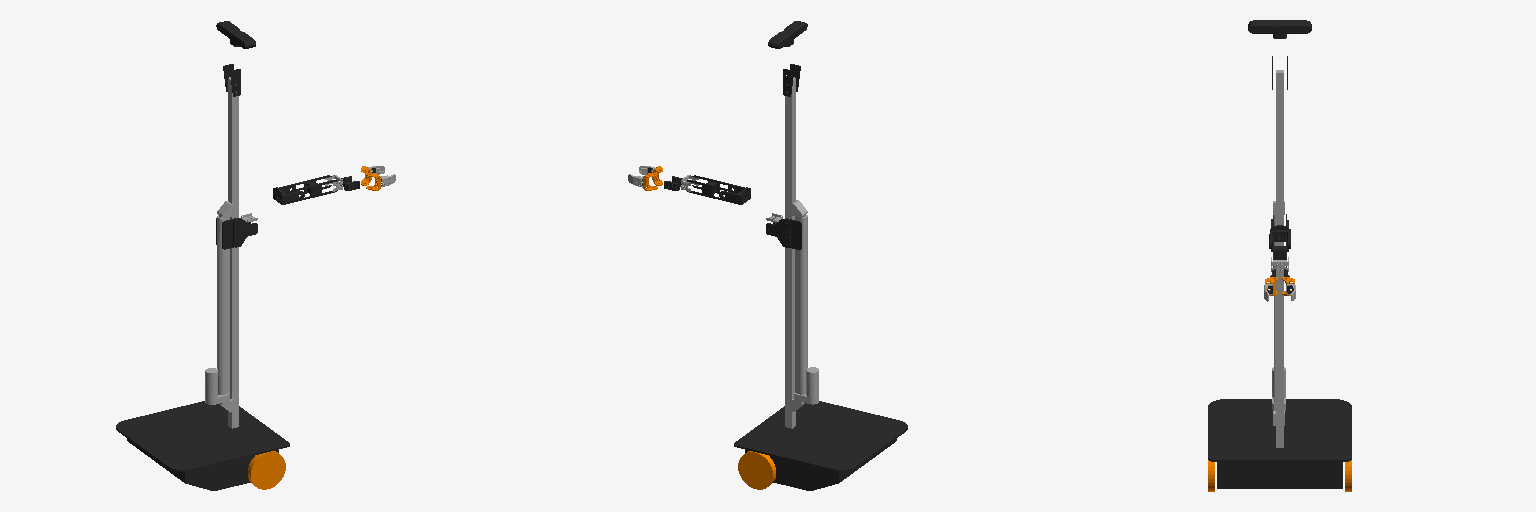
--- Render facts (derived) ---
3 views of the same robot in one strip: view 1: azimuth 30°, elevation 25°; view 2: azimuth 150°, elevation 25°; view 3: azimuth 270°, elevation 25° (orthographic).
Model maxwell with 49 links and 48 joints (10 revolute, 2 continuous, 1 prismatic, 35 fixed), rooted at base_link, posed every joint at zero.
Visible links, largest first — view 1: base_link, torso_actuator_link, torso_link, base_r_wheel_link, arm_right_mount_link, head_camera_frame; view 2: base_link, torso_link, torso_actuator_link, base_l_wheel_link, arm_left_mount_link, head_camera_frame; view 3: base_link, torso_link, head_camera_frame, torso_actuator_link.
Link boxes in pixels (x1,y1,x2,y2): base_link: (116, 401, 289, 490); torso_actuator_link: (205, 201, 233, 412); torso_link: (228, 77, 238, 428); base_r_wheel_link: (248, 451, 285, 489); arm_right_mount_link: (222, 218, 257, 249); head_camera_frame: (216, 21, 255, 48); base_link: (734, 401, 907, 490); torso_link: (785, 77, 795, 428); torso_actuator_link: (791, 200, 818, 411); base_l_wheel_link: (738, 451, 775, 489); arm_left_mount_link: (766, 218, 801, 249); head_camera_frame: (768, 21, 807, 48); base_link: (1208, 399, 1351, 488); torso_link: (1276, 70, 1283, 447); head_camera_frame: (1248, 20, 1311, 38); torso_actuator_link: (1272, 201, 1285, 425).
Size in the robot's own frame: 0.8714 by 0.4065 by 1.46 metres.
21 mesh visuals loaded from 18 distinct referenced files (13 binary STL); not drawn: 17 (reference not matched to a file when rendering).

robot.urdf — maxwell:
<?xml version="1.0" ?>
<!-- =================================================================================== -->
<!-- |    This document was autogenerated by xacro from maxwell.urdf.xacro             | -->
<!-- |    EDITING THIS FILE BY HAND IS NOT RECOMMENDED                                 | -->
<!-- =================================================================================== -->
<robot name="maxwell" xmlns:xacro="http://www.ros.org/wiki/xacro">
  <!-- deck to arm_link at max height-->
  <!-- deck to top of 80/20 -->
  <!-- The following included files set up definitions of parts of the robot body -->
  <material name="Black">
    <color rgba="0.2 0.2 0.2 1.0"/>
  </material>
  <material name="Orange">
    <color rgba="1.0  0.55 0.0 1.0"/>
  </material>
  <material name="Grey">
    <color rgba="0.7 0.7 0.7 1.0"/>
  </material>
  <material name="Red">
    <color rgba="0.8 0.0 0.0 1.0"/>
  </material>
  <material name="White">
    <color rgba="1.0 1.0 1.0 1.0"/>
  </material>
  <material name="Blue">
    <color rgba="0.0 0.0 0.8 1.0"/>
  </material>
  <!-- Now we can start using the macros included above to define the actual Maxwell -->
  <link name="base_link">
    <visual>
      <origin rpy="0 0 0" xyz="0 0 0.0238"/>
      <geometry>
        <mesh filename="package://maxwell_defs/meshes/base.stl"/>
      </geometry>
      <material name="Black"/>
    </visual>
    <collision>
      <origin rpy="0 0 0" xyz="-0.12065 0 0.0655"/>
      <geometry>
        <box size="0.4064 0.4064 0.131"/>
      </geometry>
    </collision>
  </link>
  <joint name="base_laser_joint" type="fixed">
    <axis xyz="0 1 0"/>
    <origin rpy="0 0 0" xyz="0.0318 0 0.1885"/>
    <parent link="base_link"/>
    <child link="base_laser_link"/>
  </joint>
  <link name="base_laser_link" type="laser">
    <inertial>
      <mass value="0.001"/>
      <origin rpy="0 0 0" xyz="0 0 0"/>
      <inertia ixx="0.0001" ixy="0" ixz="0" iyy="0.000001" iyz="0" izz="0.0001"/>
    </inertial>
    <!--<visual>
        <origin xyz="0 0 -0.022" rpy="0 0 0" />
        <geometry>
          <box size="0.05 0.05 0.071" />
        </geometry>
        <material name="Red" />
      </visual>-->
    <collision>
      <origin rpy="0 0 0" xyz="0 0 -0.022"/>
      <geometry>
        <box size=".05 .05 .071"/>
      </geometry>
    </collision>
  </link>
  <joint name="base_l_wheel_joint" type="continuous">
    <axis xyz="0 0 1"/>
    <limit effort="100" velocity="100"/>
    <safety_controller k_velocity="10"/>
    <origin rpy="1.57 0 0" xyz="0 0.19304 0.06191"/>
    <parent link="base_link"/>
    <child link="base_l_wheel_link"/>
  </joint>
  <link name="base_l_wheel_link">
    <visual>
      <origin rpy="0 0 0" xyz="0 0 0"/>
      <geometry>
        <cylinder length="0.02032" radius="0.06191"/>
      </geometry>
      <material name="Orange"/>
    </visual>
  </link>
  <joint name="base_r_wheel_joint" type="continuous">
    <axis xyz="0 0 1"/>
    <limit effort="100" velocity="100"/>
    <safety_controller k_velocity="10"/>
    <origin rpy="-1.57 0 0" xyz="0 -0.19304 0.06191"/>
    <parent link="base_link"/>
    <child link="base_r_wheel_link"/>
  </joint>
  <link name="base_r_wheel_link">
    <visual>
      <origin rpy="0 0 0" xyz="0 0 0"/>
      <geometry>
        <cylinder length="0.02032" radius="0.06191"/>
      </geometry>
      <material name="Orange"/>
    </visual>
  </link>
  <!-- Add Torso Upright -->
  <joint name="torso_joint" type="fixed">
    <origin rpy="0 0 0" xyz="-0.00635 0 0.7914"/>
    <parent link="base_link"/>
    <child link="torso_link"/>
  </joint>
  <link name="torso_link">
    <visual>
      <origin rpy="0 0 0 " xyz="0 0 -0.0740125"/>
      <geometry>
        <box size="0.0254 0.0254 1.172775"/>
      </geometry>
      <material name="Grey"/>
    </visual>
    <collision>
      <origin rpy="0 0 0 " xyz="0 0 -0.0740125"/>
      <geometry>
        <box size="0.0254 0.0254 1.172775"/>
      </geometry>
    </collision>
  </link>
  <joint name="torso_actuator_joint" type="fixed">
    <origin rpy="0 0 0" xyz="0 0 0"/>
    <parent link="torso_link"/>
    <child link="torso_actuator_link"/>
  </joint>
  <link name="torso_actuator_link">
    <visual>
      <origin rpy="0 0 3.14" xyz="-0.05 -0.0127 -0.560"/>
      <geometry>
        <mesh filename="package://maxwell_defs/meshes/FA-35-TR.stl" scale="0.001 0.001 0.001"/>
      </geometry>
      <material name="Grey"/>
    </visual>
    <collision>
      <origin rpy="0 0 0 " xyz="-0.03 0 -0.245"/>
      <geometry>
        <box size="0.03 0.0254 0.650"/>
      </geometry>
    </collision>
  </link>
  <!-- Live joint between torso and arm -->
  <joint name="arm_lift_joint" type="prismatic">
    <axis xyz="0 0 1"/>
    <limit effort="30" lower="-0.464" upper="0" velocity="0.0508"/>
    <origin rpy="0 0 0" xyz="0 0 0"/>
    <parent link="torso_link"/>
    <child link="arm_lift_link"/>
  </joint>
  <link name="arm_lift_link"/>
  <!-- Arm -->
  <joint name="arm_base_joint" type="fixed">
    <origin rpy="0 0 0" xyz="0.0611 0 0"/>
    <parent link="arm_lift_link"/>
    <child link="arm_link"/>
  </joint>
  <link name="arm_link"/>
  <joint name="arm_left_mount_joint" type="fixed">
    <origin rpy="0 0 0" xyz="-0.0611 0.0254 0"/>
    <parent link="arm_link"/>
    <child link="arm_left_mount_link"/>
  </joint>
  <link name="arm_left_mount_link">
    <visual>
      <origin rpy="1.57 3.14 0" xyz="0.01 0 -0.034"/>
      <geometry>
        <mesh filename="package://maxwell_defs/meshes/arm_mount.stl" scale="0.001 0.001 0.001"/>
      </geometry>
      <material name="Black"/>
    </visual>
    <collision>
      <origin rpy="0 0 0" xyz="0.03055 -0.00238125 0"/>
      <geometry>
        <box size="0.0865 0.0047625 0.038"/>
      </geometry>
    </collision>
  </link>
  <joint name="arm_right_mount_joint" type="fixed">
    <origin rpy="3.14 0 0" xyz="-0.0611 -0.0254 0"/>
    <parent link="arm_link"/>
    <child link="arm_right_mount_link"/>
  </joint>
  <link name="arm_right_mount_link">
    <visual>
      <origin rpy="1.57 3.14 0" xyz="0.01 0 -0.034"/>
      <geometry>
        <mesh filename="package://maxwell_defs/meshes/arm_mount.stl" scale="0.001 0.001 0.001"/>
      </geometry>
      <material name="Black"/>
    </visual>
    <collision>
      <origin rpy="0 0 0" xyz="0.03055 -0.00238125 0"/>
      <geometry>
        <box size="0.0865 0.0047625 0.038"/>
      </geometry>
    </collision>
  </link>
  <joint name="arm_shoulder_pan_servo_joint" type="fixed">
    <origin rpy="0 0 0" xyz="0 0 0"/>
    <parent link="arm_link"/>
    <child link="arm_shoulder_pan_servo_link"/>
  </joint>
  <link name="arm_shoulder_pan_servo_link">
    <inertial>
      <mass value="0.00001"/>
      <origin xyz="0 0 0"/>
      <inertia ixx="1.0" ixy="0.0" ixz="0.0" iyy="1.0" iyz="0.0" izz="1.0"/>
    </inertial>
    <visual>
      <origin rpy="0 0 -1.57" xyz=" 0 0 0 "/>
      <geometry>
        <mesh filename="package://maxwell_defs/meshes/rx64.stl" scale="1 1 1"/>
      </geometry>
      <material name="Black"/>
    </visual>
    <collision>
      <origin rpy="0 0 0" xyz="-0.01755 0.0 0"/>
      <geometry>
        <box size="0.0611 0.0420 0.0470"/>
      </geometry>
    </collision>
  </link>
  <joint name="arm_shoulder_pan_joint" type="revolute">
    <origin rpy="0 0 0" xyz="0 0 0.0235"/>
    <axis xyz="0 0 1"/>
    <limit effort="30" lower="-1.57" upper="1.57" velocity="0.524"/>
    <parent link="arm_shoulder_pan_servo_link"/>
    <child link="arm_shoulder_pan_link"/>
  </joint>
  <link name="arm_shoulder_pan_link">
    <inertial>
      <mass value="0.00001"/>
      <origin xyz="0 0 0"/>
      <inertia ixx="1.0" ixy="0.0" ixz="0.0" iyy="1.0" iyz="0.0" izz="1.0"/>
    </inertial>
    <visual>
      <origin rpy="1.57 0 0" xyz=" 0 0 0 "/>
      <geometry>
        <mesh filename="package://maxwell_defs/meshes/rx64-side-bracket.stl" scale="1 1 1"/>
      </geometry>
      <material name="Grey"/>
    </visual>
    <collision>
      <origin rpy="0 0 0" xyz="0.000 0 0.005"/>
      <geometry>
        <box size="0.037 0.037 0.010"/>
      </geometry>
    </collision>
  </link>
  <joint name="arm_shoulder_lift_servo_joint" type="fixed">
    <origin rpy="0 -1.57 0" xyz="0 0 0.0526"/>
    <parent link="arm_shoulder_pan_link"/>
    <child link="arm_shoulder_lift_servo_link"/>
  </joint>
  <link name="arm_shoulder_lift_servo_link">
    <inertial>
      <mass value="0.00001"/>
      <origin xyz="0 0 0"/>
      <inertia ixx="1.0" ixy="0.0" ixz="0.0" iyy="1.0" iyz="0.0" izz="1.0"/>
    </inertial>
    <visual>
      <origin rpy="1.57 1.57 0" xyz=" 0 0 0 "/>
      <geometry>
        <mesh filename="package://maxwell_defs/meshes/rx64.stl" scale="1 1 1"/>
      </geometry>
      <material name="Black"/>
    </visual>
    <collision>
      <origin rpy="0 0 0" xyz="-0.01755 0 0"/>
      <geometry>
        <box size="0.0611 0.0470 0.0420"/>
      </geometry>
    </collision>
  </link>
  <joint name="arm_shoulder_lift_joint" type="revolute">
    <origin rpy="0 1.57 0" xyz="0 0 0"/>
    <axis xyz="0 1 0"/>
    <limit effort="30" lower="-1.77" upper="1.317" velocity="0.524"/>
    <parent link="arm_shoulder_lift_servo_link"/>
    <child link="arm_shoulder_lift_link"/>
  </joint>
  <link name="arm_shoulder_lift_link">
    <inertial>
      <mass value="0.00001"/>
      <origin xyz="0 0 0"/>
      <inertia ixx="1.0" ixy="0.0" ixz="0.0" iyy="1.0" iyz="0.0" izz="1.0"/>
    </inertial>
    <visual>
      <origin rpy="-1.57 0 0" xyz="0 0 0"/>
      <geometry>
        <mesh filename="package://maxwell_defs/meshes/sixdof_bracket1.stl" scale="0.001 0.001 0.001"/>
      </geometry>
      <material name="Black"/>
    </visual>
    <collision>
      <origin rpy="0 0 0" xyz="0.0381 0.0 0.0"/>
      <geometry>
        <box size="0.0762 0.053 0.044"/>
      </geometry>
    </collision>
  </link>
  <joint name="arm_upperarm_roll_servo_joint" type="fixed">
    <origin rpy="1.57 1.57 0" xyz="0.0712978 0 0"/>
    <parent link="arm_shoulder_lift_link"/>
    <child link="arm_upperarm_roll_servo_link"/>
  </joint>
  <link name="arm_upperarm_roll_servo_link">
    <inertial>
      <mass value="0.00001"/>
      <origin xyz="0 0 0"/>
      <inertia ixx="1.0" ixy="0.0" ixz="0.0" iyy="1.0" iyz="0.0" izz="1.0"/>
    </inertial>
    <visual>
      <origin rpy="1.57 1.57 0" xyz=" 0 0 0 "/>
      <geometry>
        <mesh filename="package://maxwell_defs/meshes/rx64.stl" scale="1 1 1"/>
      </geometry>
      <material name="Black"/>
    </visual>
    <collision>
      <origin rpy="0 0 0" xyz="-0.01755 0 0"/>
      <geometry>
        <box size="0.0611 0.0470 0.0420"/>
      </geometry>
    </collision>
  </link>
  <joint name="arm_upperarm_roll_joint" type="revolute">
    <origin rpy="-1.57 0 1.57" xyz="0 0 0"/>
    <axis xyz="1 0 0"/>
    <limit effort="30" lower="-2" upper="2" velocity="0.524"/>
    <parent link="arm_upperarm_roll_servo_link"/>
    <child link="arm_upperarm_roll_link"/>
  </joint>
  <link name="arm_upperarm_roll_link">
    <inertial>
      <mass value="0.00001"/>
      <origin xyz="0 0 0"/>
      <inertia ixx="1.0" ixy="0.0" ixz="0.0" iyy="1.0" iyz="0.0" izz="1.0"/>
    </inertial>
    <visual>
      <origin rpy="-1.57 0 3.14" xyz="0.0869955 0 0"/>
      <geometry>
        <mesh filename="package://maxwell_defs/meshes/sixdof_bracket2.stl" scale="0.001 0.001 0.001"/>
      </geometry>
      <material name="Black"/>
    </visual>
    <collision>
      <origin rpy="0 0 0" xyz="0.0381 0.0 0.0"/>
      <geometry>
        <box size="0.0762 0.053 0.044"/>
      </geometry>
    </collision>
  </link>
  <joint name="arm_elbow_flex_joint" type="revolute">
    <origin rpy="0 0 0" xyz="0.0869955 0 0"/>
    <axis xyz="0 1 0"/>
    <limit effort="30" lower="-1.57" upper="2.617" velocity="0.524"/>
    <parent link="arm_upperarm_roll_link"/>
    <child link="arm_elbow_flex_link"/>
  </joint>
  <link name="arm_elbow_flex_link">
    <inertial>
      <mass value="0.00001"/>
      <origin xyz="0 0 0"/>
      <inertia ixx="1.0" ixy="0.0" ixz="0.0" iyy="1.0" iyz="0.0" izz="1.0"/>
    </inertial>
    <visual>
      <origin rpy="1.57 -1.57 0" xyz=" 0 0 0 "/>
      <geometry>
        <mesh filename="package://maxwell_defs/meshes/rx64.stl" scale="1 1 1"/>
      </geometry>
      <material name="Black"/>
    </visual>
    <collision>
      <origin rpy="0 0 0" xyz="0.01755 0 0"/>
      <geometry>
        <box size="0.0611 0.0470 0.0420"/>
      </geometry>
    </collision>
  </link>
  <joint name="arm_forearm_fixed_joint" type="fixed">
    <origin rpy="0 0 0" xyz="0 0 0"/>
    <parent link="arm_elbow_flex_link"/>
    <child link="arm_forearm_link"/>
  </joint>
  <link name="arm_forearm_link">
    <inertial>
      <mass value="0.00001"/>
      <origin xyz="0 0 0"/>
      <inertia ixx="1.0" ixy="0.0" ixz="0.0" iyy="1.0" iyz="0.0" izz="1.0"/>
    </inertial>
    <visual>
      <origin rpy="-1.57 0 0" xyz="0 0 0"/>
      <geometry>
        <mesh filename="package://maxwell_defs/meshes/arm_mx64_forearm.stl" scale="1 1 1"/>
      </geometry>
      <material name="Black"/>
    </visual>
    <collision>
      <origin rpy="0 0 0" xyz="0.0625 0.0 0.0"/>
      <geometry>
        <box size="0.03 0.053 0.044"/>
      </geometry>
    </collision>
  </link>
  <joint name="arm_wrist_flex_servo_joint" type="fixed">
    <origin rpy="0 0 0" xyz="0.125 0 0"/>
    <parent link="arm_forearm_link"/>
    <child link="arm_wrist_flex_servo_link"/>
  </joint>
  <link name="arm_wrist_flex_servo_link">
    <inertial>
      <mass value="0.00001"/>
      <origin xyz="0 0 0"/>
      <inertia ixx="1.0" ixy="0.0" ixz="0.0" iyy="1.0" iyz="0.0" izz="1.0"/>
    </inertial>
    <visual>
      <origin rpy="1.57 1.57 0" xyz=" 0 0 0 "/>
      <geometry>
        <mesh filename="package://maxwell_defs/meshes/rx64.stl" scale="1 1 1"/>
      </geometry>
      <material name="Black"/>
    </visual>
    <collision>
      <origin rpy="0 0 0" xyz="-0.01755 0 0"/>
      <geometry>
        <box size="0.0611 0.0470 0.0420"/>
      </geometry>
    </collision>
  </link>
  <joint name="arm_wrist_flex_joint" type="revolute">
    <origin rpy="0 0 0" xyz="0 0 0.0"/>
    <axis xyz="0 1 0"/>
    <limit effort="30" lower="-1.57" upper="1.57" velocity="0.785"/>
    <parent link="arm_wrist_flex_servo_link"/>
    <child link="arm_wrist_flex_link"/>
  </joint>
  <link name="arm_wrist_flex_link">
    <inertial>
      <mass value="0.00001"/>
      <origin xyz="0 0 0"/>
      <inertia ixx="1.0" ixy="0.0" ixz="0.0" iyy="1.0" iyz="0.0" izz="1.0"/>
    </inertial>
    <visual>
      <origin rpy="0 0 -1.57" xyz="0 0 0"/>
      <geometry>
        <mesh filename="package://maxwell_defs/meshes/rx64-hinge-bracket.stl" scale="1 1 1"/>
      </geometry>
      <material name="Grey"/>
    </visual>
    <collision>
      <origin rpy="0 0 0" xyz="0.015 0.0 0.0"/>
      <geometry>
        <box size="0.030 0.056 0.031"/>
      </geometry>
    </collision>
  </link>
  <joint name="arm_wrist_roll_joint" type="revolute">
    <axis xyz="1 0 0"/>
    <limit effort="30" lower="-2.617" upper="2.617" velocity="0.785"/>
    <origin rpy="0 0 0" xyz="0.041 0 0"/>
    <parent link="arm_wrist_flex_link"/>
    <child link="arm_wrist_roll_link"/>
  </joint>
  <link name="arm_wrist_roll_link">
    <inertial>
      <mass value="0.00001"/>
      <origin xyz="0 0 0"/>
      <inertia ixx="1.0" ixy="0.0" ixz="0.0" iyy="1.0" iyz="0.0" izz="1.0"/>
    </inertial>
    <visual>
      <origin rpy="0 0 1.57" xyz="0.01905 0 0"/>
      <geometry>
        <mesh filename="package://maxwell_defs/meshes/ax12.stl" scale="0.001 0.001 0.001"/>
      </geometry>
      <material name="Black"/>
    </visual>
    <collision>
      <origin rpy="0 0 0" xyz="0.02 0.0 -0.0133 "/>
      <geometry>
        <box size="0.040 0.032 0.0501"/>
      </geometry>
    </collision>
  </link>
  <!-- Gripper -->
  <joint name="gripper_F6_1_joint" type="fixed">
    <origin rpy="0 0 0" xyz="0.01905 0.017 -0.014"/>
    <parent link="arm_wrist_roll_link"/>
    <child link="gripper_F6_1_link"/>
  </joint>
  <link name="gripper_F6_1_link">
    <inertial>
      <mass value="0.00001"/>
      <origin xyz="0 0 0"/>
      <inertia ixx="1.0" ixy="0.0" ixz="0.0" iyy="1.0" iyz="0.0" izz="1.0"/>
    </inertial>
    <visual>
      <origin rpy="3.14 0 0" xyz=" 0 0 0 "/>
      <geometry>
        <mesh filename="package://maxwell_defs/meshes/F6.stl" scale="1 1 1"/>
      </geometry>
      <material name="Black"/>
    </visual>
    <collision>
      <origin rpy="0 0 0" xyz="0.001 0.0 0.0"/>
      <geometry>
        <box size="0.04 0.005 0.024"/>
      </geometry>
    </collision>
  </link>
  <joint name="gripper_F6_2_joint" type="fixed">
    <origin rpy="3.14 3.14 0" xyz="0.008 0.004 0"/>
    <parent link="gripper_F6_1_link"/>
    <child link="gripper_F6_2_link"/>
  </joint>
  <link name="gripper_F6_2_link">
    <inertial>
      <mass value="0.00001"/>
      <origin xyz="0 0 0"/>
      <inertia ixx="1.0" ixy="0.0" ixz="0.0" iyy="1.0" iyz="0.0" izz="1.0"/>
    </inertial>
    <visual>
      <origin rpy="3.14 0 0" xyz=" 0 0 0 "/>
      <geometry>
        <mesh filename="package://maxwell_defs/meshes/F6.stl" scale="1 1 1"/>
      </geometry>
      <material name="Black"/>
    </visual>
    <collision>
      <origin rpy="0 0 0" xyz="0.001 0.0 0.0"/>
      <geometry>
        <box size="0.04 0.005 0.024"/>
      </geometry>
    </collision>
  </link>
  <joint name="gripper_F6_3_joint" type="fixed">
    <origin rpy="3.14 0 0" xyz="0.01905 -0.017 -0.014"/>
    <parent link="arm_wrist_roll_link"/>
    <child link="gripper_F6_3_link"/>
  </joint>
  <link name="gripper_F6_3_link">
    <inertial>
      <mass value="0.00001"/>
      <origin xyz="0 0 0"/>
      <inertia ixx="1.0" ixy="0.0" ixz="0.0" iyy="1.0" iyz="0.0" izz="1.0"/>
    </inertial>
    <visual>
      <origin rpy="3.14 0 0" xyz=" 0 0 0 "/>
      <geometry>
        <mesh filename="package://maxwell_defs/meshes/F6.stl" scale="1 1 1"/>
      </geometry>
      <material name="Black"/>
    </visual>
    <collision>
      <origin rpy="0 0 0" xyz="0.001 0.0 0.0"/>
      <geometry>
        <box size="0.04 0.005 0.024"/>
      </geometry>
    </collision>
  </link>
  <joint name="gripper_F6_4_joint" type="fixed">
    <origin rpy="0 0 3.14" xyz="0.008 0.004 0"/>
    <parent link="gripper_F6_3_link"/>
    <child link="gripper_F6_4_link"/>
  </joint>
  <link name="gripper_F6_4_link">
    <inertial>
      <mass value="0.00001"/>
      <origin xyz="0 0 0"/>
      <inertia ixx="1.0" ixy="0.0" ixz="0.0" iyy="1.0" iyz="0.0" izz="1.0"/>
    </inertial>
    <visual>
      <origin rpy="3.14 0 0" xyz=" 0 0 0 "/>
      <geometry>
        <mesh filename="package://maxwell_defs/meshes/F6.stl" scale="1 1 1"/>
      </geometry>
      <material name="Black"/>
    </visual>
    <collision>
      <origin rpy="0 0 0" xyz="0.001 0.0 0.0"/>
      <geometry>
        <box size="0.04 0.005 0.024"/>
      </geometry>
    </collision>
  </link>
  <joint name="left_gripper_mount_joint" type="fixed">
    <origin rpy="1.57 0 1.57" xyz="-0.018 0.005 0"/>
    <parent link="gripper_F6_2_link"/>
    <child link="left_gripper_mount_link"/>
  </joint>
  <link name="left_gripper_mount_link">
    <inertial>
      <mass value="0.00001"/>
      <origin xyz="0 0 0"/>
      <inertia ixx="1.0" ixy="0.0" ixz="0.0" iyy="1.0" iyz="0.0" izz="1.0"/>
    </inertial>
    <visual>
      <origin rpy="0 0 0" xyz=" 0 0 0 "/>
      <geometry>
        <mesh filename="package://maxwell_defs/meshes/F3.stl" scale="0.001 0.001 0.001"/>
      </geometry>
      <material name="Black"/>
    </visual>
    <collision>
      <origin rpy="0 0 0" xyz="0.0 0.0 -0.0045"/>
      <geometry>
        <box size="0.025 0.038 0.009"/>
      </geometry>
    </collision>
  </link>
  <joint name="right_gripper_mount_joint" type="fixed">
    <origin rpy="1.57 0 1.57" xyz="-0.018 0.005 0"/>
    <parent link="gripper_F6_4_link"/>
    <child link="right_gripper_mount_link"/>
  </joint>
  <link name="right_gripper_mount_link">
    <inertial>
      <mass value="0.00001"/>
      <origin xyz="0 0 0"/>
      <inertia ixx="1.0" ixy="0.0" ixz="0.0" iyy="1.0" iyz="0.0" izz="1.0"/>
    </inertial>
    <visual>
      <origin rpy="0 0 0" xyz=" 0 0 0 "/>
      <geometry>
        <mesh filename="package://maxwell_defs/meshes/F3.stl" scale="0.001 0.001 0.001"/>
      </geometry>
      <material name="Black"/>
    </visual>
    <collision>
      <origin rpy="0 0 0" xyz="0.0 0.0 -0.0045"/>
      <geometry>
        <box size="0.025 0.038 0.009"/>
      </geometry>
    </collision>
  </link>
  <joint name="left_gripper_servo_joint" type="fixed">
    <origin rpy="-1.57 1.57 0" xyz="0 0 -0.042"/>
    <parent link="left_gripper_mount_link"/>
    <child link="left_gripper_servo_link"/>
  </joint>
  <link name="left_gripper_servo_link">
    <inertial>
      <mass value="0.00001"/>
      <origin xyz="0 0 0"/>
      <inertia ixx="1.0" ixy="0.0" ixz="0.0" iyy="1.0" iyz="0.0" izz="1.0"/>
    </inertial>
    <visual>
      <origin rpy="1.57 0 1.57" xyz=" 0 0 0 "/>
      <geometry>
        <mesh filename="package://maxwell_defs/meshes/ax12.stl" scale="0.001 0.001 0.001"/>
      </geometry>
      <material name="Black"/>
    </visual>
    <collision>
      <origin rpy="0 0 0" xyz="-0.01345 0.0 0.0"/>
      <geometry>
        <box size="0.0501 0.032 0.040"/>
      </geometry>
    </collision>
  </link>
  <joint name="right_gripper_servo_joint" type="fixed">
    <origin rpy="1.57 1.57 0" xyz="0 0 -0.042"/>
    <parent link="right_gripper_mount_link"/>
    <child link="right_gripper_servo_link"/>
  </joint>
  <link name="right_gripper_servo_link">
    <inertial>
      <mass value="0.00001"/>
      <origin xyz="0 0 0"/>
      <inertia ixx="1.0" ixy="0.0" ixz="0.0" iyy="1.0" iyz="0.0" izz="1.0"/>
    </inertial>
    <visual>
      <origin rpy="1.57 0 1.57" xyz=" 0 0 0 "/>
      <geometry>
        <mesh filename="package://maxwell_defs/meshes/ax12.stl" scale="0.001 0.001 0.001"/>
      </geometry>
      <material name="Black"/>
    </visual>
    <collision>
      <origin rpy="0 0 0" xyz="-0.01345 0.0 0.0"/>
      <geometry>
        <box size="0.0501 0.032 0.040"/>
      </geometry>
    </collision>
  </link>
  <joint name="l_gripper_joint" type="revolute">
    <origin rpy="3.14 0 1.57" xyz="0 0 0"/>
    <axis xyz="0 0 1"/>
    <limit effort="30" lower="-1.57" upper="1.57" velocity="0.5"/>
    <parent link="left_gripper_servo_link"/>
    <child link="l_gripper_link"/>
  </joint>
  <link name="l_gripper_link">
    <inertial>
      <mass value="0.00001"/>
      <origin xyz="0 0 0"/>
      <inertia ixx="1.0" ixy="0.0" ixz="0.0" iyy="1.0" iyz="0.0" izz="1.0"/>
    </inertial>
    <visual>
      <origin rpy="3.14 0 0" xyz=" 0 0 0 "/>
      <geometry>
        <mesh filename="package://maxwell_defs/meshes/F1.stl" scale="1 1 1"/>
      </geometry>
      <material name="Orange"/>
    </visual>
    <collision>
      <origin rpy="0 0 .8" xyz="0.01 0.008 0.0"/>
      <geometry>
        <box size="0.04 0.028 0.046"/>
      </geometry>
    </collision>
  </link>
  <joint name="r_gripper_joint" type="revolute">
    <origin rpy="0 0 -1.57" xyz="0 0 0"/>
    <axis xyz="0 0 1"/>
    <limit effort="30" lower="-1.57" upper="1.57" velocity="0.5"/>
    <parent link="right_gripper_servo_link"/>
    <child link="r_gripper_link"/>
  </joint>
  <link name="r_gripper_link">
    <inertial>
      <mass value="0.00001"/>
      <origin xyz="0 0 0"/>
      <inertia ixx="1.0" ixy="0.0" ixz="0.0" iyy="1.0" iyz="0.0" izz="1.0"/>
    </inertial>
    <visual>
      <origin rpy="3.14 0 0" xyz=" 0 0 0 "/>
      <geometry>
        <mesh filename="package://maxwell_defs/meshes/F1.stl" scale="1 1 1"/>
      </geometry>
      <material name="Orange"/>
    </visual>
    <collision>
      <origin rpy="0 0 .8" xyz="0.01 0.008 0.0"/>
      <geometry>
        <box size="0.04 0.028 0.046"/>
      </geometry>
    </collision>
  </link>
  <joint name="left_gripper_F9_joint" type="fixed">
    <origin rpy="0 3.14 0" xyz="0.0155 0.038 0"/>
    <parent link="l_gripper_link"/>
    <child link="left_gripper_F9_link"/>
  </joint>
  <link name="left_gripper_F9_link">
    <inertial>
      <mass value="0.00001"/>
      <origin xyz="0 0 0"/>
      <inertia ixx="1.0" ixy="0.0" ixz="0.0" iyy="1.0" iyz="0.0" izz="1.0"/>
    </inertial>
    <visual>
      <origin rpy="0 0 0" xyz="0 0 0"/>
      <geometry>
        <mesh filename="package://maxwell_defs/meshes/F9.stl" scale="1 1 1"/>
      </geometry>
      <material name="Black"/>
    </visual>
    <collision>
      <origin rpy="0 0 0" xyz="-0.008 0.0 0.0"/>
      <geometry>
        <box size="0.008 0.03 0.024"/>
      </geometry>
    </collision>
  </link>
  <joint name="right_gripper_F9_joint" type="fixed">
    <origin rpy="0 3.14 0" xyz="0.0155 0.038 0"/>
    <parent link="r_gripper_link"/>
    <child link="right_gripper_F9_link"/>
  </joint>
  <link name="right_gripper_F9_link">
    <inertial>
      <mass value="0.00001"/>
      <origin xyz="0 0 0"/>
      <inertia ixx="1.0" ixy="0.0" ixz="0.0" iyy="1.0" iyz="0.0" izz="1.0"/>
    </inertial>
    <visual>
      <origin rpy="0 0 0" xyz="0 0 0"/>
      <geometry>
        <mesh filename="package://maxwell_defs/meshes/F9.stl" scale="1 1 1"/>
      </geometry>
      <material name="Black"/>
    </visual>
    <collision>
      <origin rpy="0 0 0" xyz="-0.008 0.0 0.0"/>
      <geometry>
        <box size="0.008 0.03 0.024"/>
      </geometry>
    </collision>
  </link>
  <joint name="left_gripper_finger_joint" type="fixed">
    <origin rpy="0 0 0" xyz="0 -0.013 0 "/>
    <parent link="left_gripper_F9_link"/>
    <child link="left_gripper_finger_link"/>
  </joint>
  <link name="left_gripper_finger_link">
    <inertial>
      <mass value="0.00001"/>
      <origin xyz="0 0 0"/>
      <inertia ixx="1.0" ixy="0.0" ixz="0.0" iyy="1.0" iyz="0.0" izz="1.0"/>
    </inertial>
    <visual>
      <origin rpy="0 0 0" xyz="0 0 0"/>
      <geometry>
        <mesh filename="package://maxwell_defs/meshes/F11.stl" scale="1 1 1"/>
      </geometry>
      <material name="Grey"/>
    </visual>
    <collision>
      <origin rpy="0 0 0" xyz="-0.008 0.025 0.0"/>
      <geometry>
        <box size="0.009 0.06 0.028"/>
      </geometry>
    </collision>
  </link>
  <joint name="right_gripper_finger_joint" type="fixed">
    <origin rpy="0 0 0" xyz="0 -0.013 0"/>
    <parent link="right_gripper_F9_link"/>
    <child link="right_gripper_finger_link"/>
  </joint>
  <link name="right_gripper_finger_link">
    <inertial>
      <mass value="0.00001"/>
      <origin xyz="0 0 0"/>
      <inertia ixx="1.0" ixy="0.0" ixz="0.0" iyy="1.0" iyz="0.0" izz="1.0"/>
    </inertial>
    <visual>
      <origin rpy="0 0 0" xyz="0 0 0"/>
      <geometry>
        <mesh filename="package://maxwell_defs/meshes/F11.stl" scale="1 1 1"/>
      </geometry>
      <material name="Grey"/>
    </visual>
    <collision>
      <origin rpy="0 0 0" xyz="-0.008 0.025 0.0"/>
      <geometry>
        <box size="0.009 0.06 0.028"/>
      </geometry>
    </collision>
  </link>
  <!-- Head -->
  <joint name="head_joint" type="fixed">
    <origin rpy="0 0 0" xyz="0 0 0.512375"/>
    <parent link="torso_link"/>
    <child link="head_link"/>
  </joint>
  <link name="head_link"/>
  <joint name="head_left_mount_joint" type="fixed">
    <origin rpy="0 0 0" xyz="0 0.01905 0"/>
    <parent link="head_link"/>
    <child link="head_left_mount_link"/>
  </joint>
  <link name="head_left_mount_link">
    <visual>
      <origin rpy="-1.57 3.14 0" xyz="0 0 0"/>
      <geometry>
        <mesh filename="package://maxwell_defs/meshes/head_mount.stl" scale="1 1 1"/>
      </geometry>
      <material name="Black"/>
    </visual>
    <collision>
      <origin rpy="0 1.57 0" xyz="0 0 0"/>
      <geometry>
        <box size="0.0865 0.0047625 0.038"/>
      </geometry>
    </collision>
  </link>
  <joint name="head_right_mount_joint" type="fixed">
    <origin rpy="0 0 0" xyz="0 -0.022225 0"/>
    <parent link="head_link"/>
    <child link="head_right_mount_link"/>
  </joint>
  <link name="head_right_mount_link">
    <visual>
      <origin rpy="-1.57 3.14 0" xyz="0 0 0"/>
      <geometry>
        <mesh filename="package://maxwell_defs/meshes/head_mount.stl" scale="1 1 1"/>
      </geometry>
      <material name="Black"/>
    </visual>
    <collision>
      <origin rpy="0 1.57 0" xyz="0 0 0"/>
      <geometry>
        <box size="0.0865 0.0047625 0.038"/>
      </geometry>
    </collision>
  </link>
  <joint name="head_pan_servo_joint" type="fixed">
    <origin rpy="0 0 0" xyz="0.010 0 0.0254"/>
    <parent link="head_link"/>
    <child link="head_pan_servo_link"/>
  </joint>
  <link name="head_pan_servo_link">
    <inertial>
      <mass value="0.00001"/>
      <origin xyz="0 0 0"/>
      <inertia ixx="1.0" ixy="0.0" ixz="0.0" iyy="1.0" iyz="0.0" izz="1.0"/>
    </inertial>
    <visual>
      <origin rpy="1.57 0 1.57" xyz=" 0 0 0 "/>
      <geometry>
        <mesh filename="package://maxwell_defs/meshes/ax12.stl" scale="0.001 0.001 0.001"/>
      </geometry>
      <material name="Black"/>
    </visual>
    <collision>
      <origin rpy="0 0 0" xyz="-0.01345 0.0 0.0"/>
      <geometry>
        <box size="0.0501 0.032 0.040"/>
      </geometry>
    </collision>
  </link>
  <joint name="head_pan_joint" type="revolute">
    <origin rpy="0 0 0" xyz="0 0 0.019"/>
    <axis xyz="0 0 1"/>
    <limit effort="30" lower="-2.617" upper="2.617" velocity="1.0"/>
    <parent link="head_pan_servo_link"/>
    <child link="head_pan_link"/>
  </joint>
  <link name="head_pan_link">
    <inertial>
      <mass value="0.00001"/>
      <origin xyz="0 0 0"/>
      <inertia ixx="1.0" ixy="0.0" ixz="0.0" iyy="1.0" iyz="0.0" izz="1.0"/>
    </inertial>
    <visual>
      <origin rpy="3.14 0 0" xyz=" 0 0 0 "/>
      <geometry>
        <mesh filename="package://maxwell_defs/meshes/F3.stl" scale="0.001 0.001 0.001"/>
      </geometry>
      <material name="Orange"/>
    </visual>
    <collision>
      <origin rpy="0 0 0" xyz="0.0 0.0 0.0045"/>
      <geometry>
        <box size="0.025 0.038 0.009"/>
      </geometry>
    </collision>
  </link>
  <joint name="head_tilt_left_side_joint" type="fixed">
    <origin rpy="1.57 0 0" xyz="-0.015 -0.019 0"/>
    <parent link="head_pan_servo_link"/>
    <child link="head_tilt_left_side_link"/>
  </joint>
  <link name="head_tilt_left_side_link">
    <inertial>
      <mass value="0.00001"/>
      <origin xyz="0 0 0"/>
      <inertia ixx="1.0" ixy="0.0" ixz="0.0" iyy="1.0" iyz="0.0" izz="1.0"/>
    </inertial>
    <visual>
      <origin rpy="0 0 0" xyz=" 0 0 0 "/>
      <geometry>
        <mesh filename="package://maxwell_defs/meshes/F3.stl" scale="0.001 0.001 0.001"/>
      </geometry>
      <material name="Black"/>
    </visual>
    <collision>
      <origin rpy="0 0 0" xyz="0.0 0.0 -0.0045"/>
      <geometry>
        <box size="0.025 0.038 0.009"/>
      </geometry>
    </collision>
  </link>
  <joint name="head_tilt_right_side_joint" type="fixed">
    <origin rpy="-1.57 0 0" xyz="-0.015 0.019 0"/>
    <parent link="head_pan_servo_link"/>
    <child link="head_tilt_right_side_link"/>
  </joint>
  <link name="head_tilt_right_side_link">
    <inertial>
      <mass value="0.00001"/>
      <origin xyz="0 0 0"/>
      <inertia ixx="1.0" ixy="0.0" ixz="0.0" iyy="1.0" iyz="0.0" izz="1.0"/>
    </inertial>
    <visual>
      <origin rpy="0 0 0" xyz=" 0 0 0 "/>
      <geometry>
        <mesh filename="package://maxwell_defs/meshes/F3.stl" scale="0.001 0.001 0.001"/>
      </geometry>
      <material name="Black"/>
    </visual>
    <collision>
      <origin rpy="0 0 0" xyz="0.0 0.0 -0.0045"/>
      <geometry>
        <box size="0.025 0.038 0.009"/>
      </geometry>
    </collision>
  </link>
  <joint name="head_tilt_servo_joint" type="fixed">
    <origin rpy="0 0 0" xyz="0 0 0.0415"/>
    <parent link="head_pan_link"/>
    <child link="head_tilt_servo_link"/>
  </joint>
  <link name="head_tilt_servo_link">
    <inertial>
      <mass value="0.00001"/>
      <origin xyz="0 0 0"/>
      <inertia ixx="1.0" ixy="0.0" ixz="0.0" iyy="1.0" iyz="0.0" izz="1.0"/>
    </inertial>
    <visual>
      <origin rpy="0 0 0" xyz=" 0 0 0 "/>
      <geometry>
        <mesh filename="package://maxwell_defs/meshes/ax12.stl" scale="0.001 0.001 0.001"/>
      </geometry>
      <material name="Black"/>
    </visual>
    <collision>
      <origin rpy="0 0 0" xyz="0.0 0.0 -0.01345"/>
      <geometry>
        <box size="0.032 0.040 0.0501"/>
      </geometry>
    </collision>
  </link>
  <joint name="head_tilt_joint" type="revolute">
    <origin rpy="0 0 0" xyz="0 0 0"/>
    <axis xyz="0 1 0"/>
    <limit effort="30" lower="-1.57" upper="1.57" velocity="1.0"/>
    <parent link="head_tilt_servo_link"/>
    <child link="head_tilt_link"/>
  </joint>
  <link name="head_tilt_link">
    <inertial>
      <mass value="0.00001"/>
      <origin xyz="0 0 0"/>
      <inertia ixx="1.0" ixy="0.0" ixz="0.0" iyy="1.0" iyz="0.0" izz="1.0"/>
    </inertial>
    <visual>
      <origin rpy="0 0 0" xyz=" 0 0 0 "/>
      <geometry>
        <mesh filename="package://maxwell_defs/meshes/F2.stl" scale="0.001 0.001 0.001"/>
      </geometry>
      <material name="Orange"/>
    </visual>
    <collision>
      <origin rpy="0 0 0" xyz="0.0 0.0 0.00775"/>
      <geometry>
        <box size="0.025 0.0485 0.0375"/>
      </geometry>
    </collision>
  </link>
  <joint name="head_camera_frame_joint" type="fixed">
    <origin rpy="0 0 0" xyz="0 0 0.026"/>
    <parent link="head_tilt_link"/>
    <child link="head_camera_frame"/>
  </joint>
  <link name="head_camera_frame">
    <visual>
      <origin rpy="0 0 -1.57" xyz="0 0 0"/>
      <geometry>
        <mesh filename="package://maxwell_defs/meshes/xtion.stl" scale="0.001 0.001 0.001"/>
      </geometry>
      <material name="Black"/>
    </visual>
    <collision>
      <origin rpy="0 0 0" xyz="0 0 0.032075"/>
      <geometry>
        <box size="0.0381 0.1793875 0.0254"/>
      </geometry>
    </collision>
  </link>
  <joint name="head_camera_ir_joint" type="fixed">
    <origin rpy="0 0 0" xyz="0.01905 -0.0269875 0.032075"/>
    <parent link="head_camera_frame"/>
    <child link="head_camera_ir_link"/>
  </joint>
  <link name="head_camera_ir_link">
    <visual>
      <origin rpy="0 0 0" xyz="0.0 0.0 0"/>
      <geometry>
        <sphere radius="0.0005"/>
      </geometry>
    </visual>
  </link>
  <joint name="head_camera_ir_optical_frame_joint" type="fixed">
    <origin rpy="-1.57 0.0 -1.57" xyz="0 0 0"/>
    <parent link="head_camera_ir_link"/>
    <child link="head_camera_ir_optical_frame"/>
  </joint>
  <link name="head_camera_ir_optical_frame"/>
  <joint name="head_camera_rgb_joint" type="fixed">
    <origin rpy="0 -0.08 0" xyz="0 0.0552875 0"/>
    <parent link="head_camera_ir_link"/>
    <child link="head_camera_rgb_link"/>
  </joint>
  <link name="head_camera_rgb_link">
    <visual>
      <origin rpy="0 0 0" xyz="0.0 0.0 0"/>
      <geometry>
        <sphere radius="0.0005"/>
      </geometry>
    </visual>
  </link>
  <joint name="head_camera_rgb_optical_frame_joint" type="fixed">
    <origin rpy="-1.57 0.0 -1.57" xyz="0 0 0"/>
    <parent link="head_camera_rgb_link"/>
    <child link="head_camera_rgb_optical_frame"/>
  </joint>
  <link name="head_camera_rgb_optical_frame"/>
</robot>
